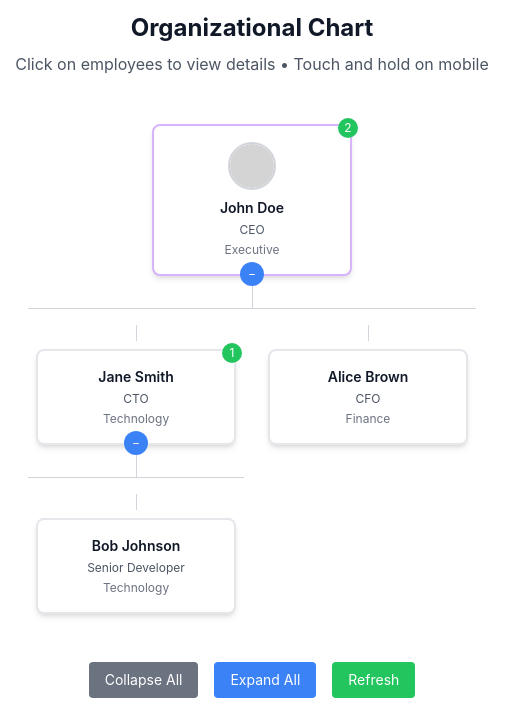
Scenario: OrgChart Component › Expand/Collapse Functionality › collapses all nodes when Collapse All button is clicked
Expected: the heading "Jane Smith" is shown, [98, 368, 174, 385]
Expected: the heading "Alice Brown" is shown, [328, 368, 408, 385]
Click the button "Collapse All".
click(144, 680)  # box [89, 662, 198, 698]
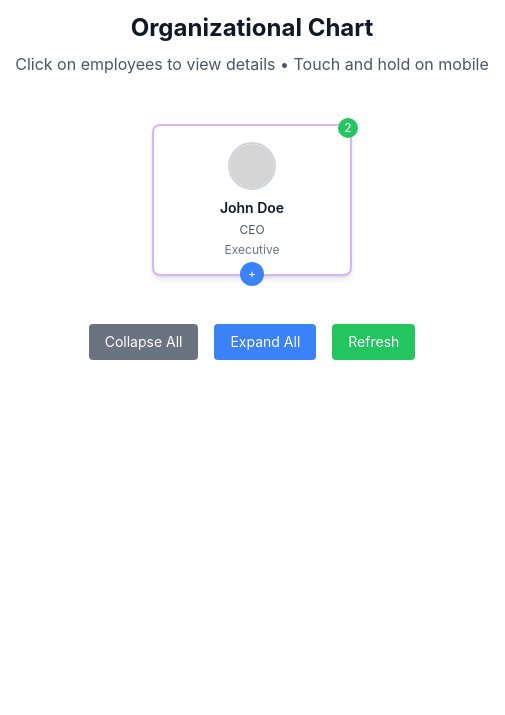
Result: the button "Jane Smith" is gone
Result: the button "Alice Brown" is gone
